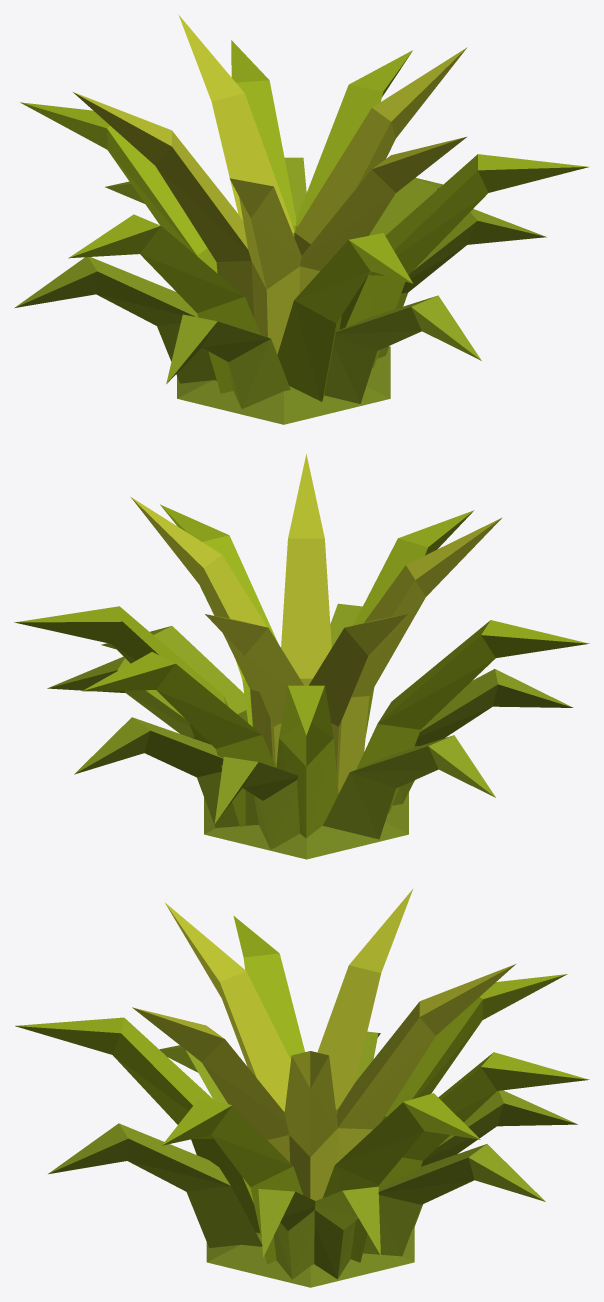
File: TB_D_Env_GrassC_A.FBX
3 views of the same model, one above another, from view 1: azimuth 30°, elevation 25°; view 2: azimuth 150°, elevation 25°; view 3: azimuth 270°, elevation 25° (orthographic). The views are drawn at different scales.
Visible parts, largest first — view 1: TB_D_Env_GrassC_A; view 2: TB_D_Env_GrassC_A; view 3: TB_D_Env_GrassC_A.
Boxes of the visible parts, bbox=[...] form: TB_D_Env_GrassC_A: bbox=[15, 14, 588, 424]; TB_D_Env_GrassC_A: bbox=[14, 454, 589, 859]; TB_D_Env_GrassC_A: bbox=[15, 889, 589, 1287].
Bounding box in the file's own units: 2.21 × 1.2 × 2.29.
